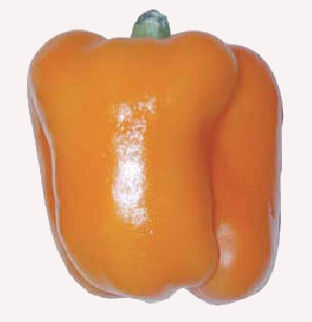capsicum: (26, 8, 282, 306)
